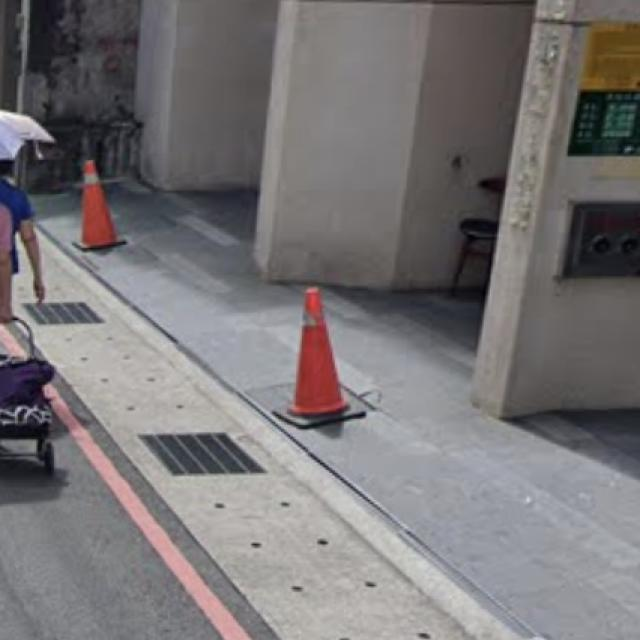cone: (278, 282, 358, 428), (69, 150, 120, 260)
